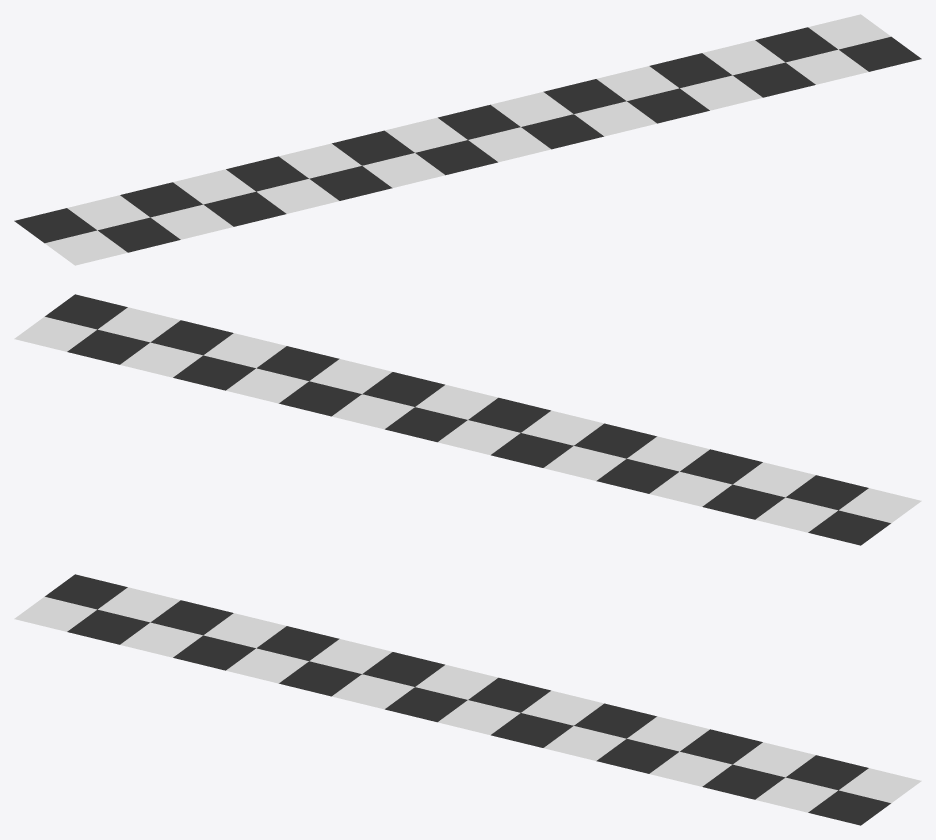
Rendered from Finish_Line_03.fbx.
The picture shows the model from 3 angles, top to bottom: view 1: azimuth 30°, elevation 25°; view 2: azimuth 150°, elevation 25°; view 3: azimuth 330°, elevation 25°; orthographic projection.
Parts seen in each view (by area): view 1: Finish_Line_03; view 2: Finish_Line_03; view 3: Finish_Line_03.
Part boxes in pixels (left/top/right/bottom): Finish_Line_03: left=14, top=14, right=921, bottom=265; Finish_Line_03: left=14, top=294, right=921, bottom=545; Finish_Line_03: left=14, top=574, right=921, bottom=825.
Size of the model in its own units: 1600 by 200 by 4.19e-22.
